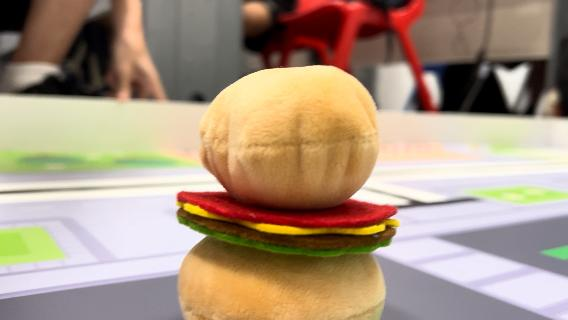burger: (178, 66, 401, 320)
